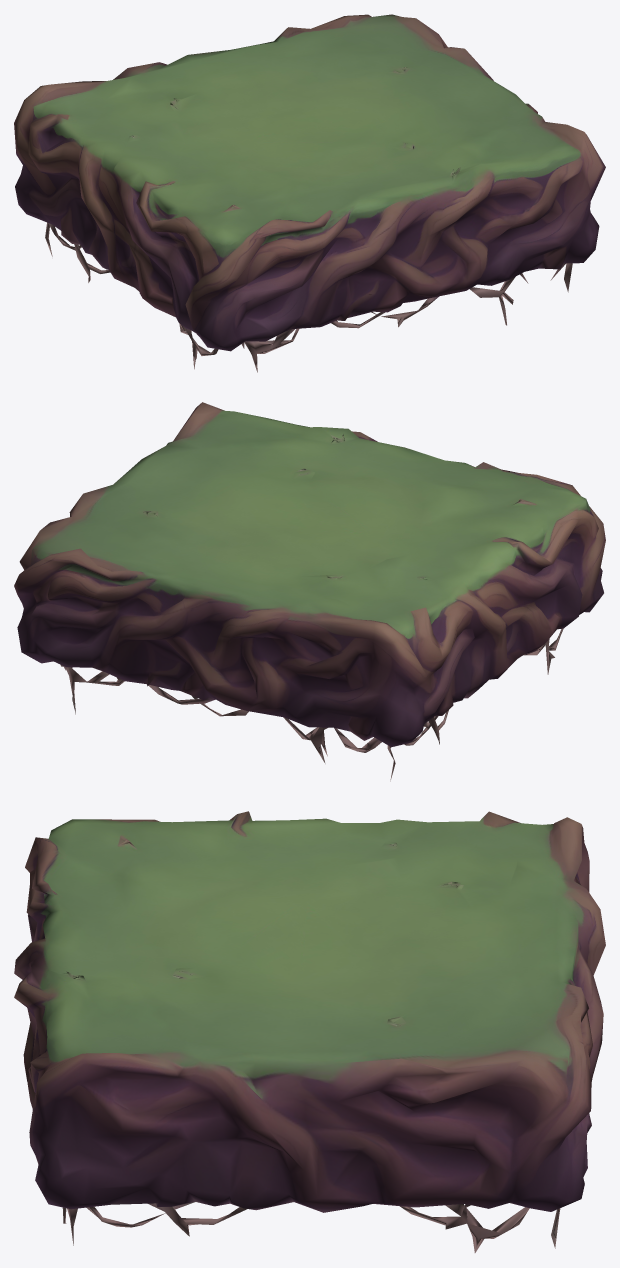
Rendered from env_root_platform_4m_a.glb.
The picture shows the model from 3 angles, top to bottom: view 1: azimuth 30°, elevation 25°; view 2: azimuth 150°, elevation 25°; view 3: azimuth 270°, elevation 25°; orthographic projection. The views are drawn at different scales.
Visible parts, largest first — view 1: tripo_node_4cda897b-d2cd-4b69-8930-3d1c649b1c72; view 2: tripo_node_4cda897b-d2cd-4b69-8930-3d1c649b1c72; view 3: tripo_node_4cda897b-d2cd-4b69-8930-3d1c649b1c72.
Boxes of the visible parts, x1,y1,x2,y2 form: tripo_node_4cda897b-d2cd-4b69-8930-3d1c649b1c72: (14,14,605,372); tripo_node_4cda897b-d2cd-4b69-8930-3d1c649b1c72: (14,402,605,781); tripo_node_4cda897b-d2cd-4b69-8930-3d1c649b1c72: (14,811,605,1252).
Bounding box in the file's own units: 1 × 0.3932 × 0.9226.
Materials: 1 (1 with a texture image).
